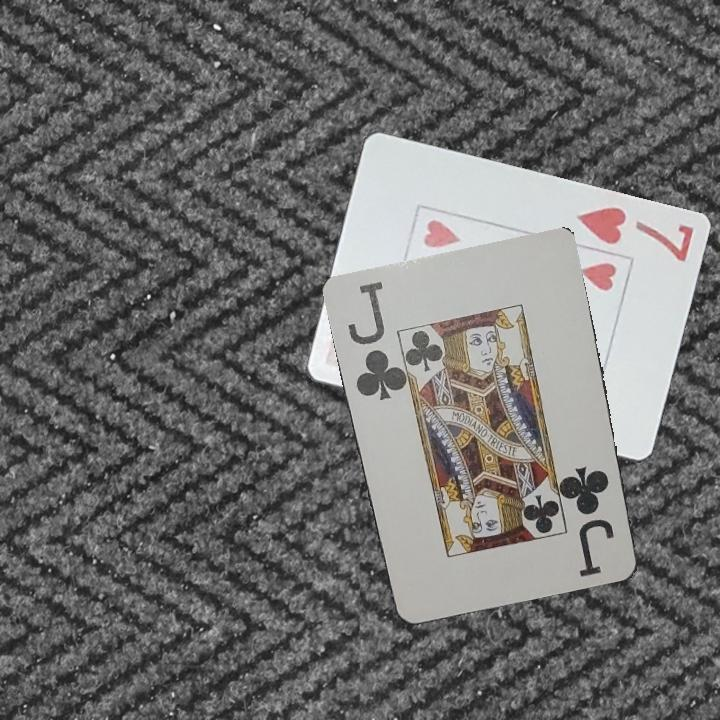7h: (572, 204, 696, 266)
Jc: (344, 278, 408, 404), (563, 463, 618, 579)
